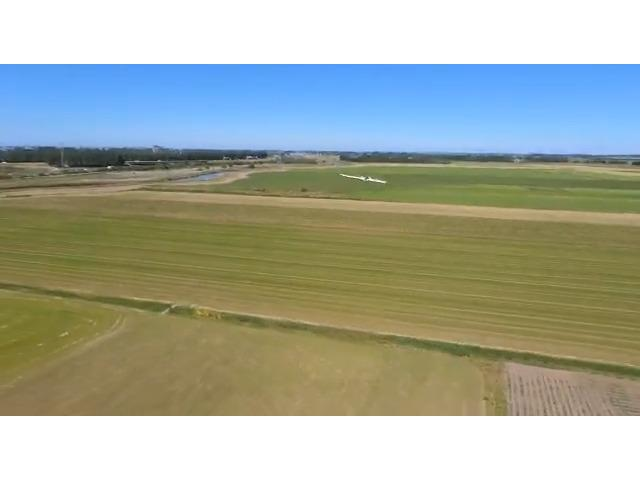Anti-Drone: (329, 158, 395, 190)
